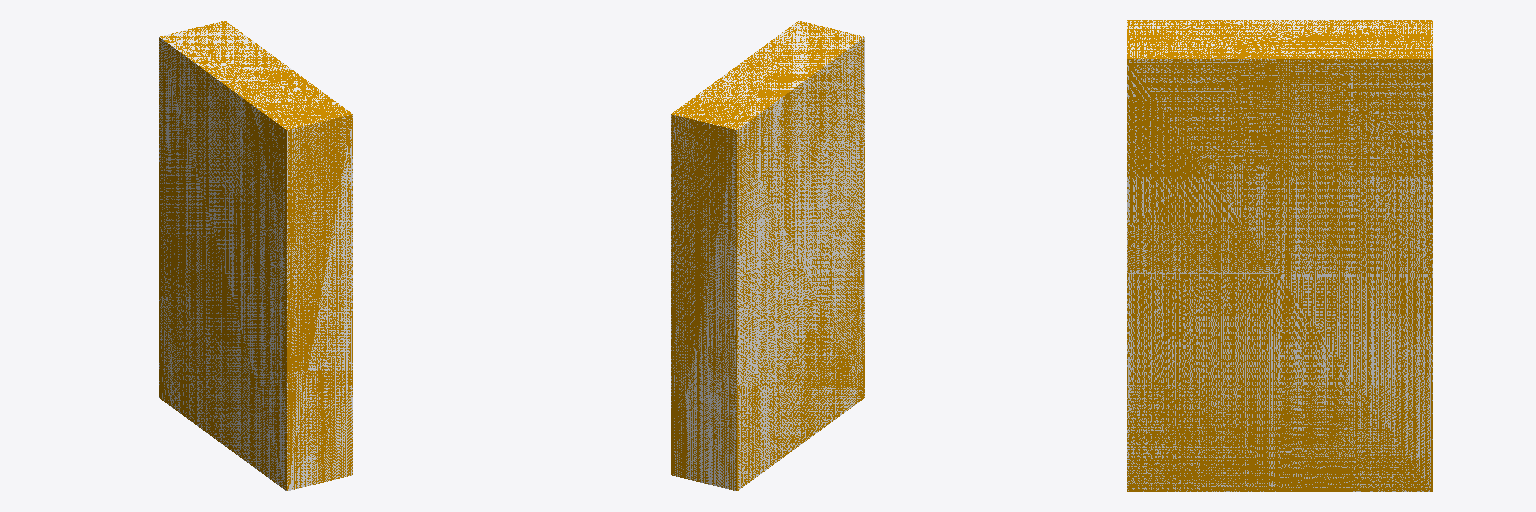
The robot description file, URDF, robot "my_object":
<?xml version="1.0" ?> 
<robot name="my_object" static="true">
  <link name="base_link">
  <inertial>
    <mass value="0.693" />
    <origin xyz="0 0 0.0" />
    <inertia ixx="1.0" ixy="0.0" ixz="0.0" iyy="1.0" iyz="0.0" izz="1.0"/>
  </inertial>
  <visual>
   <origin xyz="0 0 0.0" rpy="0 0 0" />
   <geometry>
     <mesh filename="package://cob_gazebo_objects/Media/models/book_death.dae"/>
   </geometry>
  </visual>
  <collision>
   <origin xyz="0 0 0" rpy="0 0 0" />
   <geometry>
     <box size="0.04 0.135 0.21" />
   </geometry>
  </collision>     
  </link>


<gazebo reference="base_link">
  <mu1>50.0</mu1>
  <mu2>50.0</mu2>
  <kp>1000000.0</kp>
  <kd>1.0</kd>
</gazebo>
</robot>

--- What the picture shows (computed from the rendered views, not written in the file) ---
Views: 3 orthographic renders of the robot side by side, from view 1: azimuth 30°, elevation 25°; view 2: azimuth 150°, elevation 25°; view 3: azimuth 270°, elevation 25°.
Robot: my_object — 1 links, 0 joints (none); root link base_link; default pose: every joint at zero.
Links seen in each view (by area): view 1: base_link; view 2: base_link; view 3: base_link.
Boxes of the visible links, <box> form: base_link: <box>159,21,352,490</box>; base_link: <box>671,21,864,490</box>; base_link: <box>1127,20,1432,491</box>.
Bounding box of the posed robot: 0.001 × 0.0034 × 0.0053 m (x, y, z).
Meshes: 1 distinct files referenced, 1 mesh visuals loaded (1 Collada DAE).